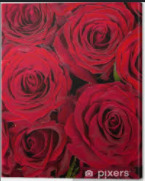RedRose: (65, 82, 141, 169), (56, 2, 133, 81), (2, 49, 64, 120), (2, 112, 69, 176), (1, 3, 59, 46)
